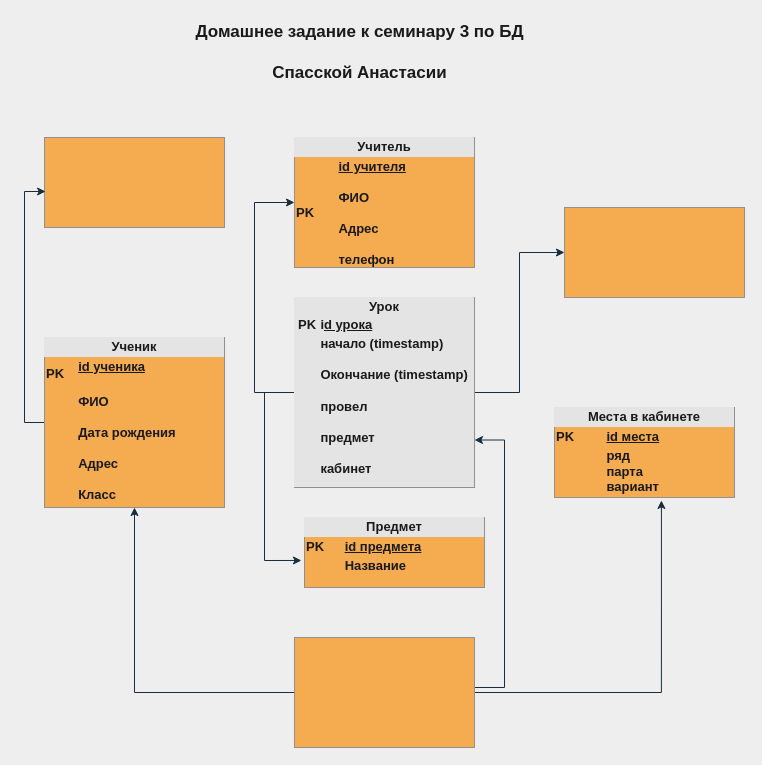
This 762x765 diagram has some shape labels left out. The centre of each missing label's shape, as x and y in pixels:
Кабинет PK id кабинета номер кабинета этаж: (654,252)
Класс PK id класса Наименование: (134,182)
Посещение PK id посещения ученик урок место: (384,692)
